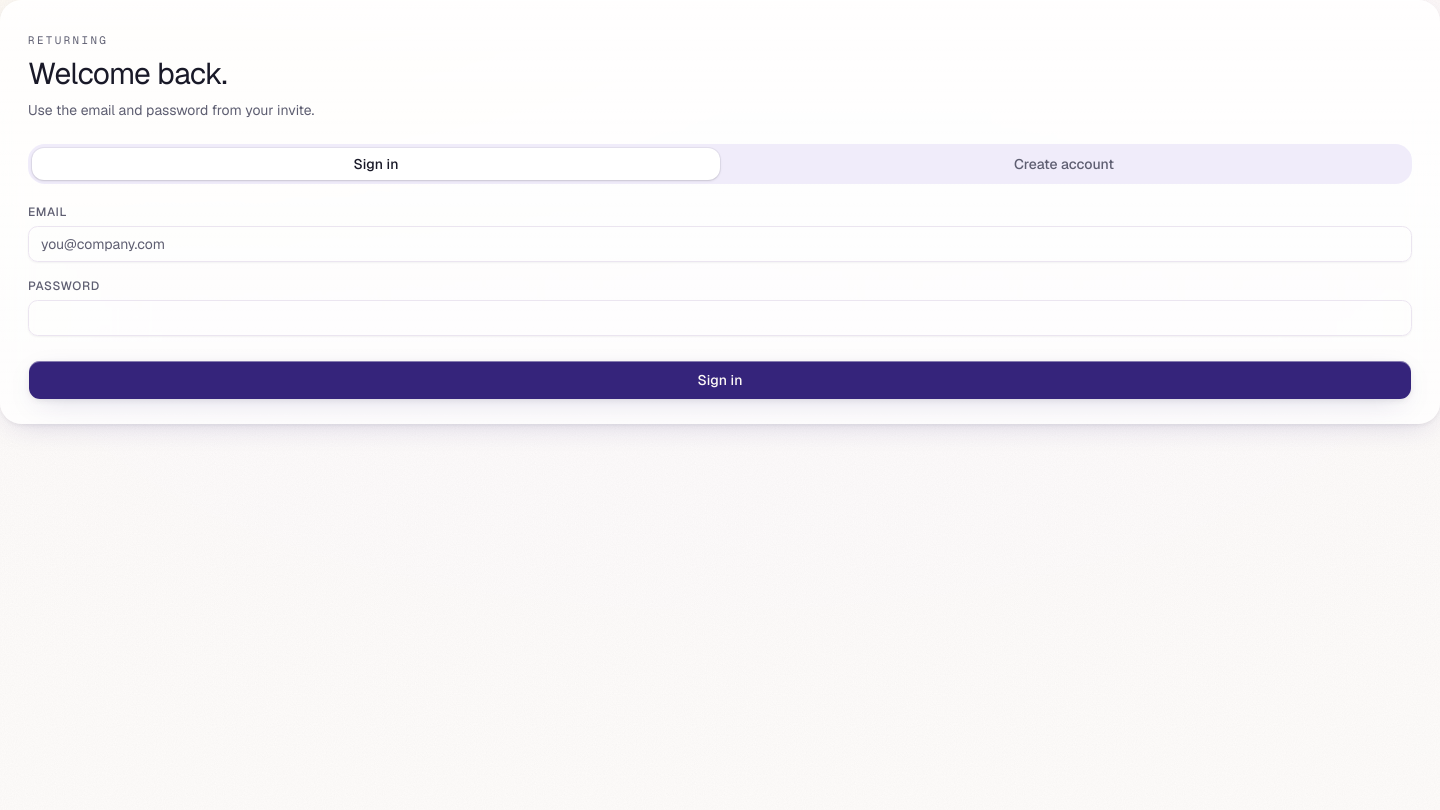
AuthCard › shows the sign-up form when switching modes
Click the tab "Create account". click: (1064, 164)
box: [720,148,1408,180]
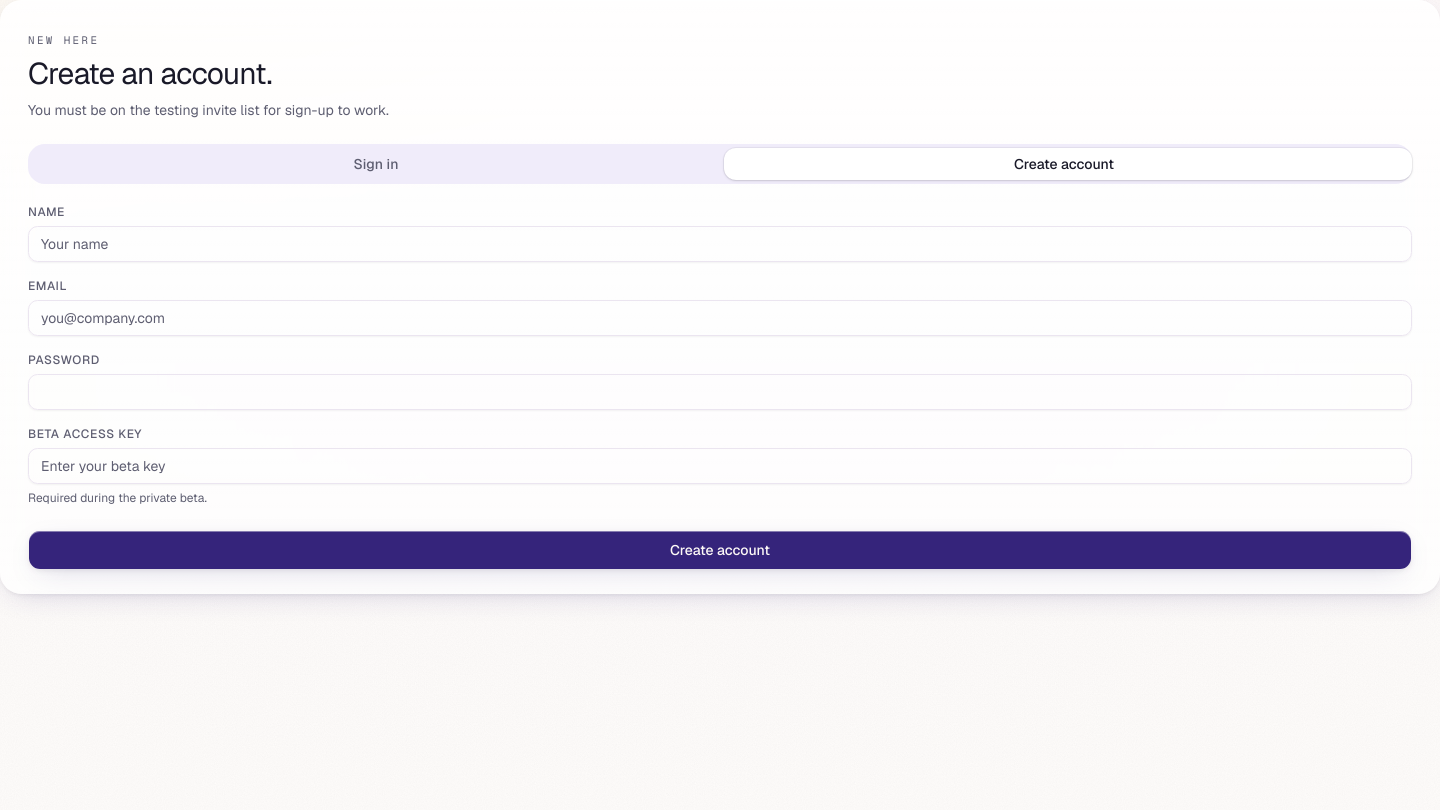
Check: the field labelled "Email" is shown, box [28,300,1412,336]
Check: the field labelled "Name" is shown, box [28,226,1412,262]
Check: the field labelled "Beta Access Key" is shown, box [28,448,1412,484]
